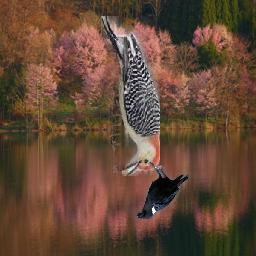Crow: (137, 161, 190, 219)
Woodpecker: (102, 16, 161, 176)
